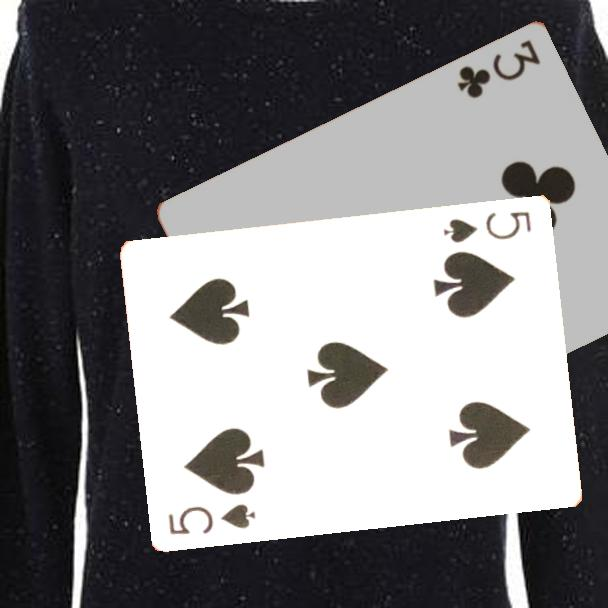c03: (453, 35, 544, 101)
s05: (440, 207, 535, 246), (165, 500, 259, 537)
